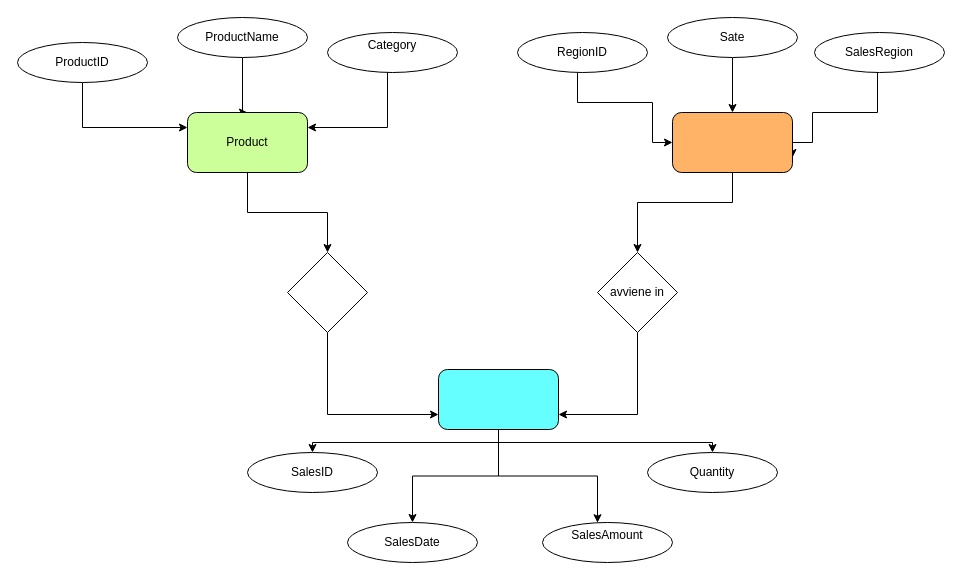
The diagram is 962 pixels wide and 580 high, and some of its shapes have lost their labels. Here are the shapes that lost their labels. From the top down, the box of each, then its label:
(672, 112, 792, 172): Region
(286, 252, 368, 332): riguarda
(438, 368, 558, 430): Sales
